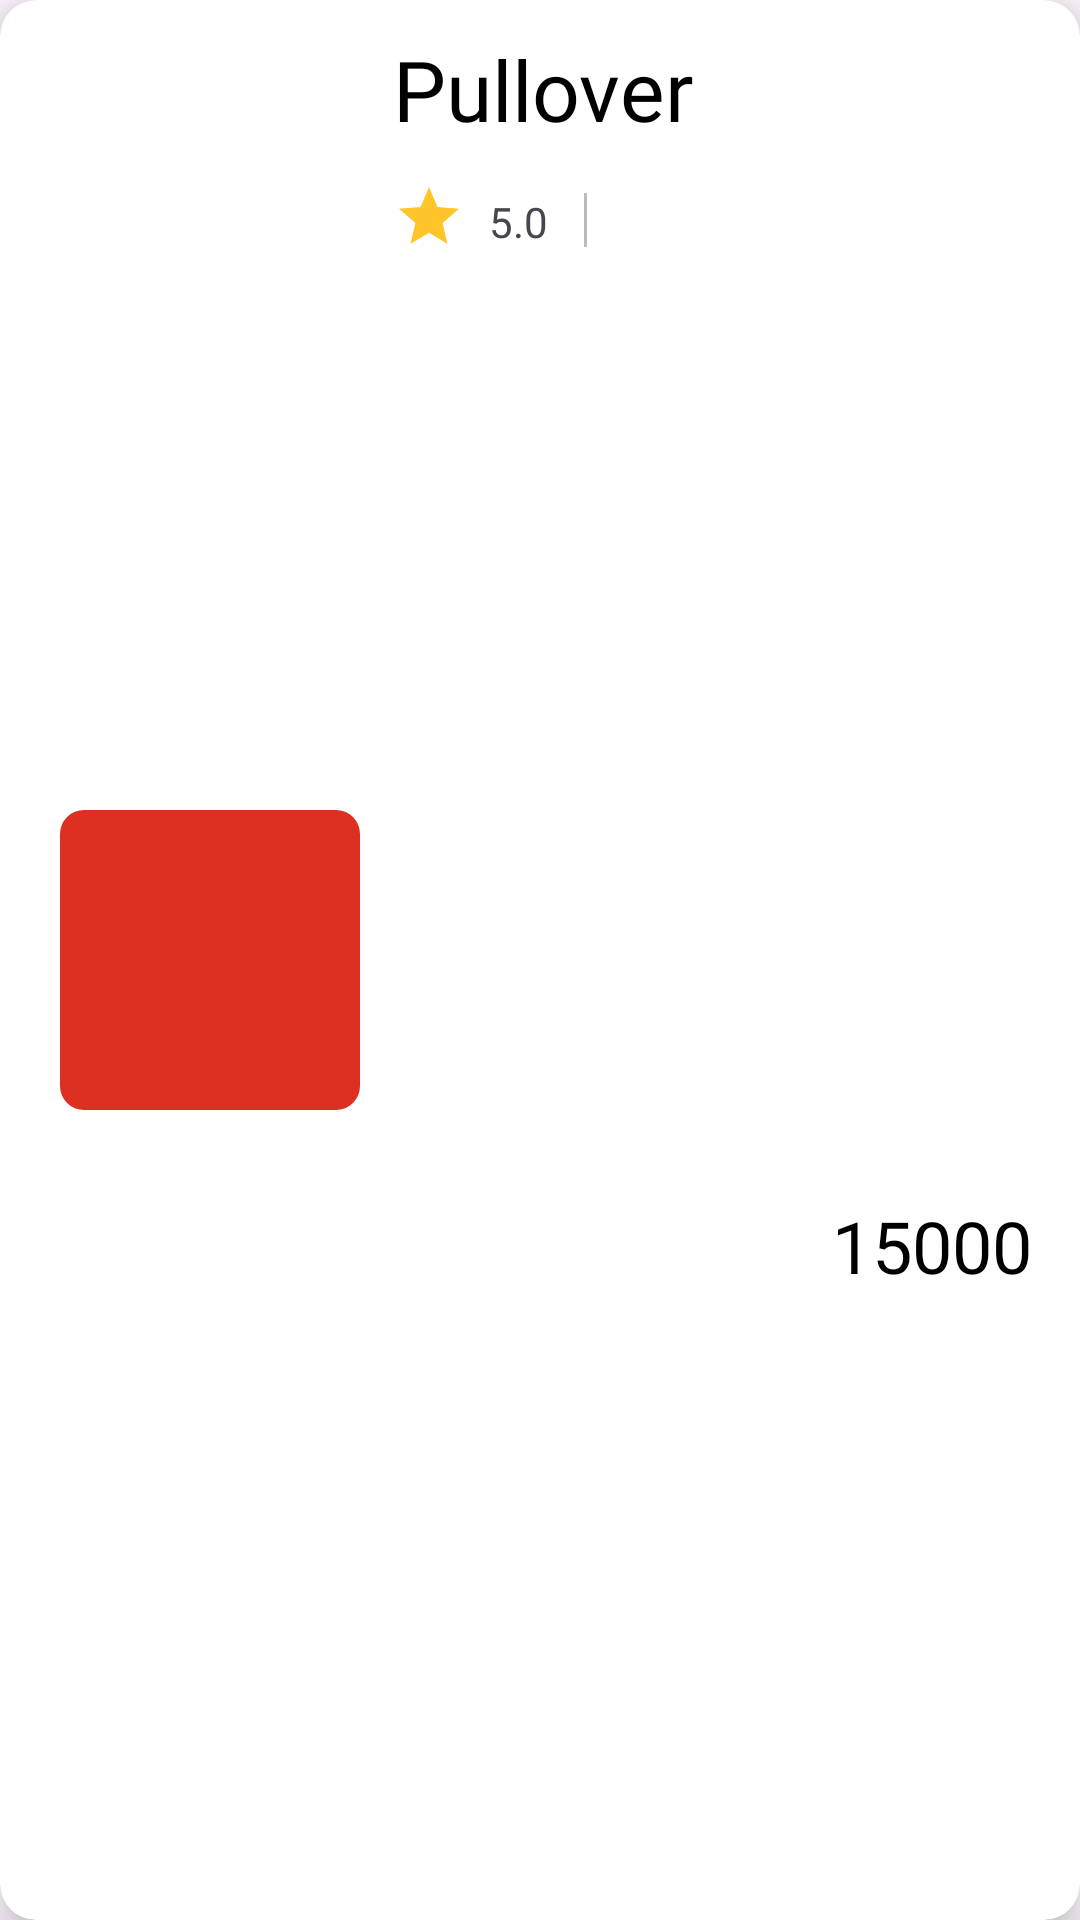

Icon click points for this 1080x1920 phone screenshot, format (x=x, y=y):
star: (x=429, y=215)
